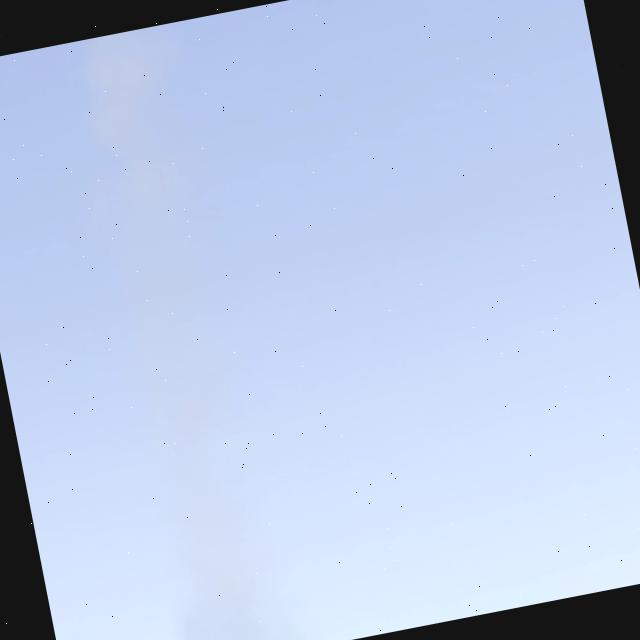smoke_trail_with_rocket: (86, 26, 292, 640)
